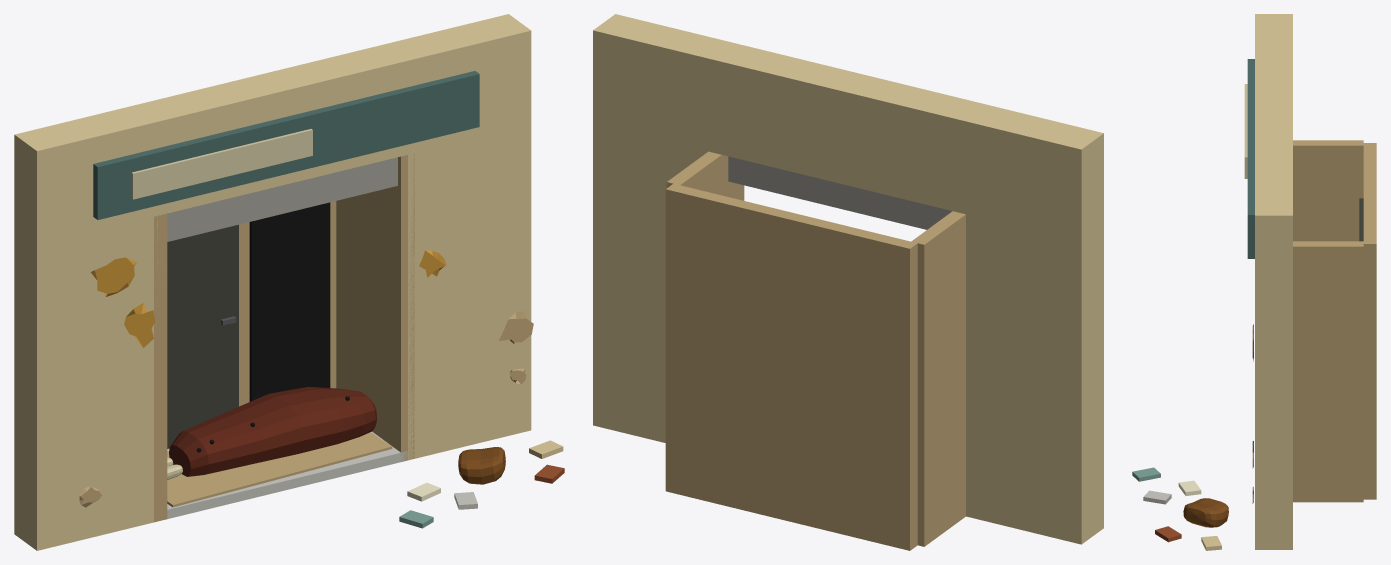
The model's file is doorway.glb.
3 views of the same model, side by side, from view 1: azimuth 30°, elevation 25°; view 2: azimuth 150°, elevation 25°; view 3: azimuth 270°, elevation 25° (orthographic). The views are drawn at different scales.
Parts seen in each view (by area): view 1: doorway; view 2: doorway; view 3: doorway.
Part boxes in pixels (box(x1,y1,x2,y2)): doorway: box(14, 14, 564, 550); doorway: box(593, 14, 1103, 550); doorway: box(1132, 14, 1376, 550).
Bounding box in the file's own units: 4.42 × 3.46 × 2.25.
